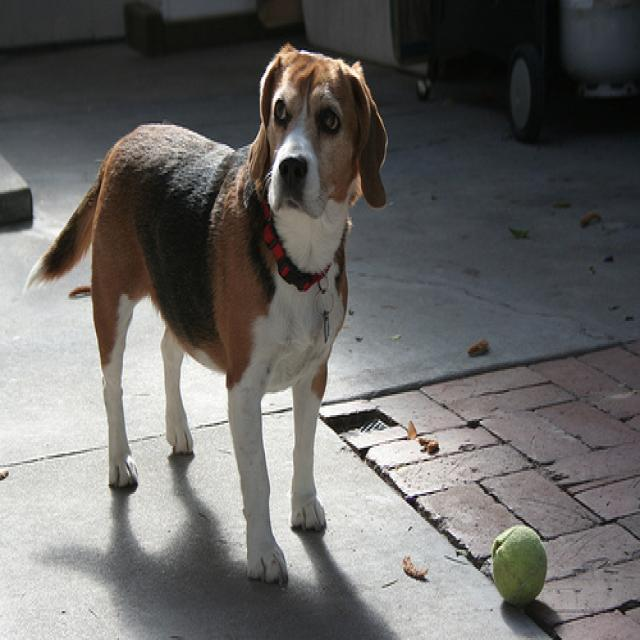dog: (247, 41, 387, 216)
